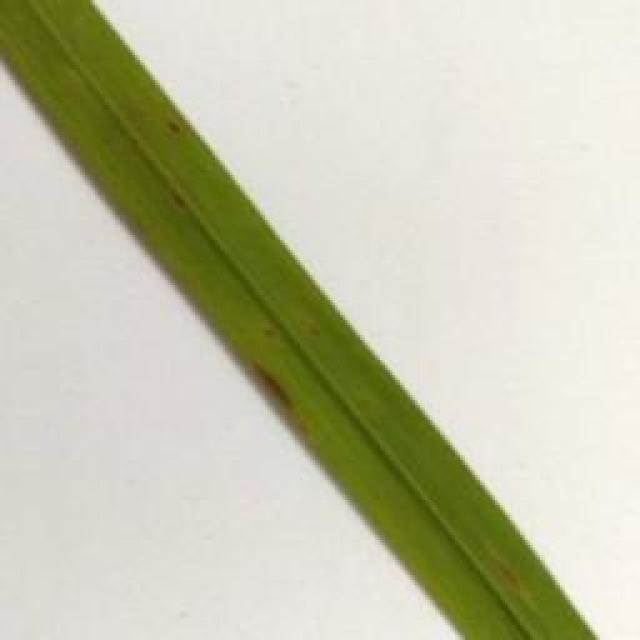Brown_Spot: (245, 350, 302, 420), (483, 546, 536, 607), (167, 189, 194, 220), (156, 119, 188, 142)
